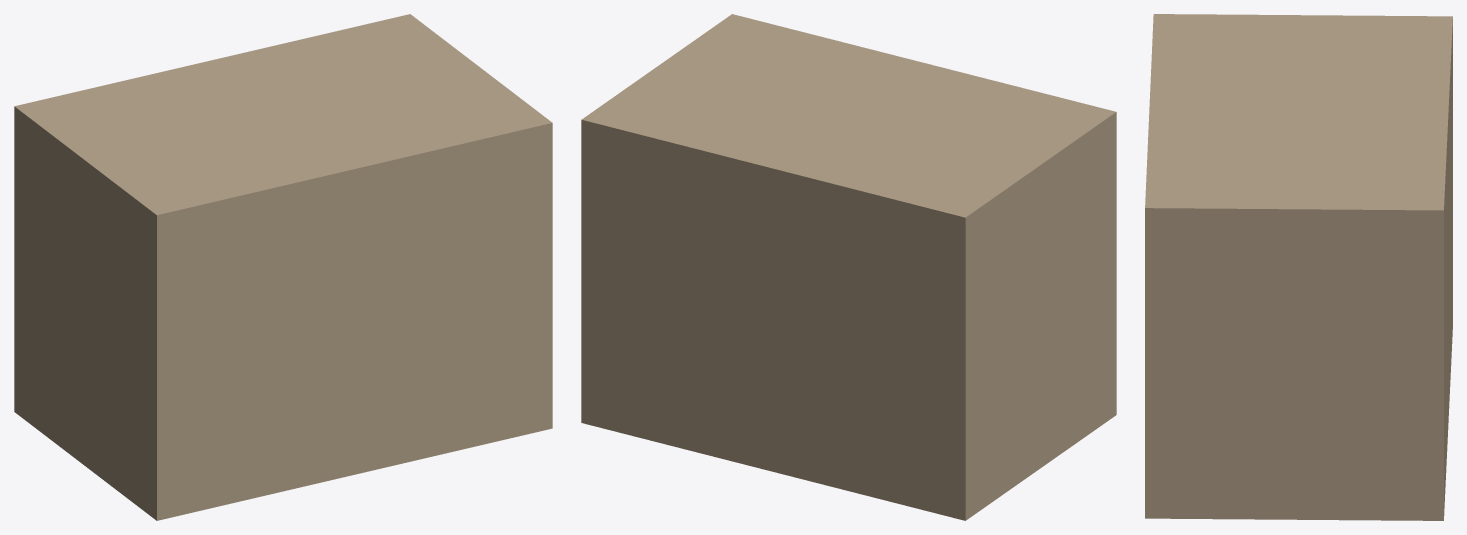
Rendered from bld_163484257.dae.
3 views of the same model, side by side, from view 1: azimuth 30°, elevation 25°; view 2: azimuth 150°, elevation 25°; view 3: azimuth 270°, elevation 25° (orthographic). The views are drawn at different scales.
Parts seen in each view (by area): view 1: bld_163484257; view 2: bld_163484257; view 3: bld_163484257.
Part boxes in pixels (bbox=[...]): bld_163484257: bbox=[14, 14, 552, 520]; bld_163484257: bbox=[581, 14, 1116, 520]; bld_163484257: bbox=[1145, 14, 1452, 520].
Bounding box in the file's own units: 10.85 × 7.19 × 8.
